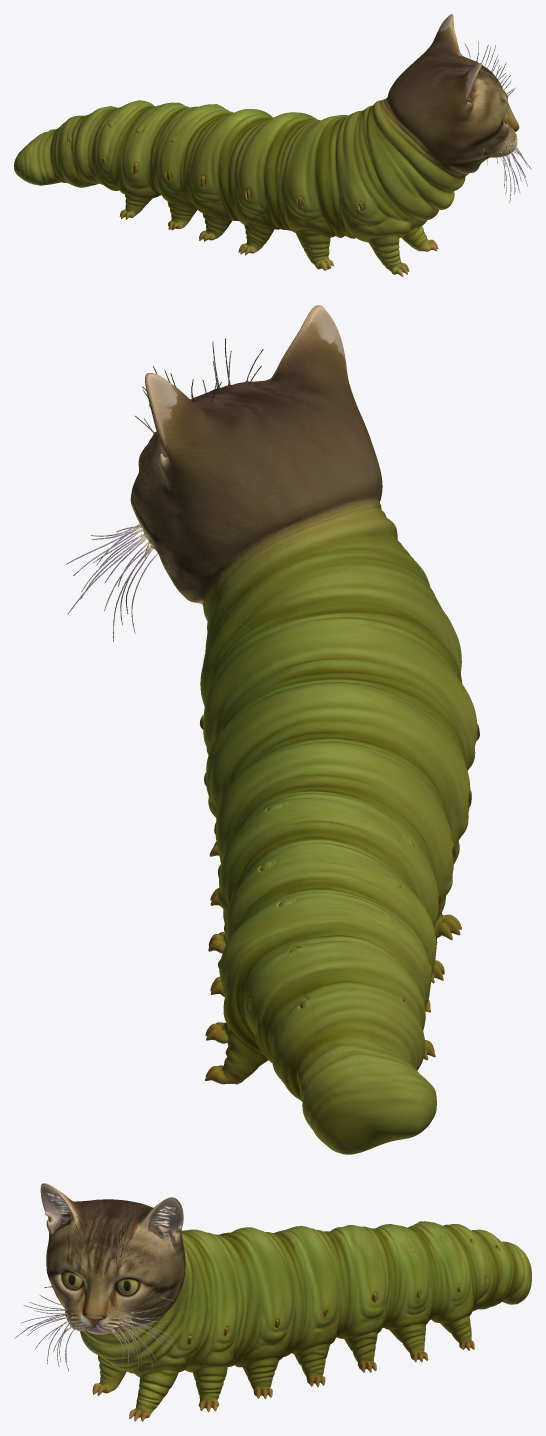
The model's file is caterpillar.glb.
The picture shows the model from 3 angles, top to bottom: view 1: azimuth 30°, elevation 25°; view 2: azimuth 150°, elevation 25°; view 3: azimuth 270°, elevation 25°; orthographic projection. The views are drawn at different scales.
Parts seen in each view (by area): view 1: Object_7, Object_6, Object_5, Object_4, Object_8; view 2: Object_6, Object_7, Object_4, Object_5, Object_8; view 3: Object_5, Object_6, Object_4, Object_7, Object_8.
Part boxes in pixels (x1,y1,x2,y2): Object_7: [17, 100, 371, 251]; Object_6: [299, 14, 481, 276]; Object_5: [14, 42, 531, 261]; Object_4: [17, 14, 530, 264]; Object_8: [207, 105, 341, 270]; Object_6: [145, 305, 461, 905]; Object_7: [205, 565, 468, 1150]; Object_4: [68, 373, 475, 1154]; Object_5: [66, 305, 479, 1137]; Object_8: [205, 613, 479, 1040]; Object_5: [17, 1183, 527, 1386]; Object_6: [40, 1183, 309, 1421]; Object_4: [14, 1197, 531, 1411]; Object_7: [188, 1221, 530, 1394]; Object_8: [196, 1227, 427, 1386].
Size of the model in its own units: 1.59 by 0.9919 by 1.91.
Materials: 1 (1 with a texture image).
